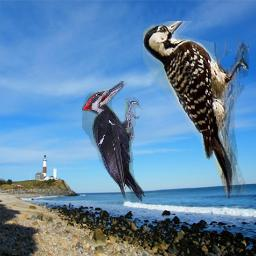Woodpecker: (143, 21, 249, 199), (82, 81, 145, 202)
